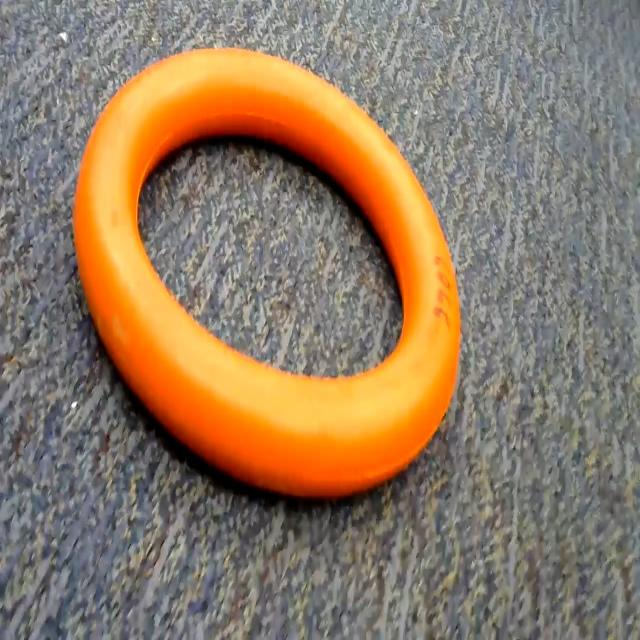note: (61, 41, 486, 511)
